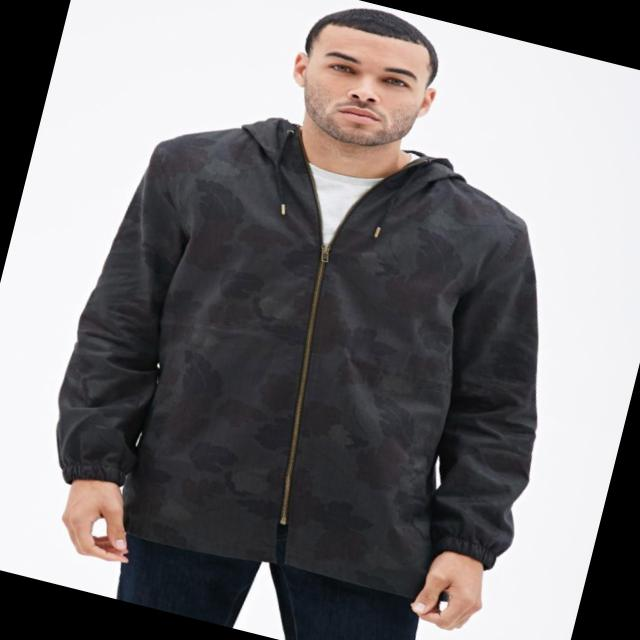Jacket: (34, 78, 613, 602)
